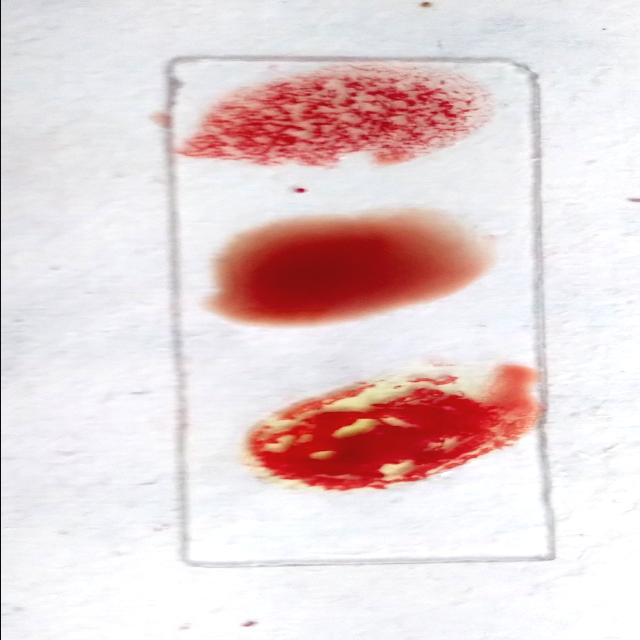B: (253, 378, 527, 490)
D: (194, 72, 480, 166)
